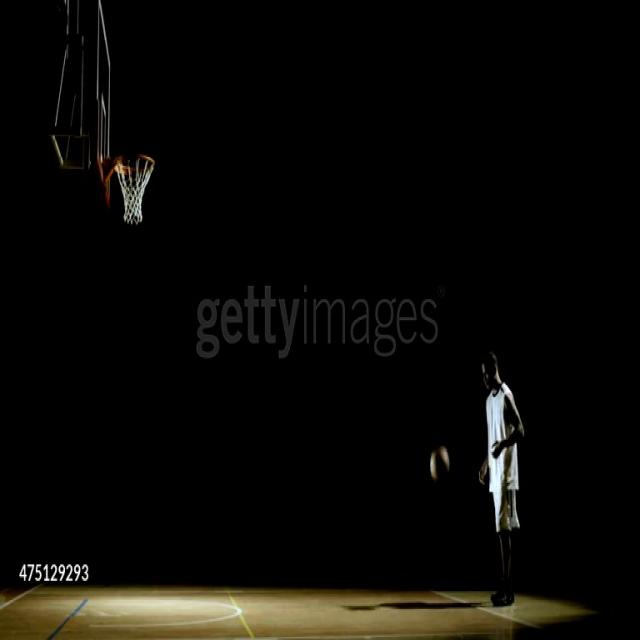ball: (429, 446, 451, 487)
